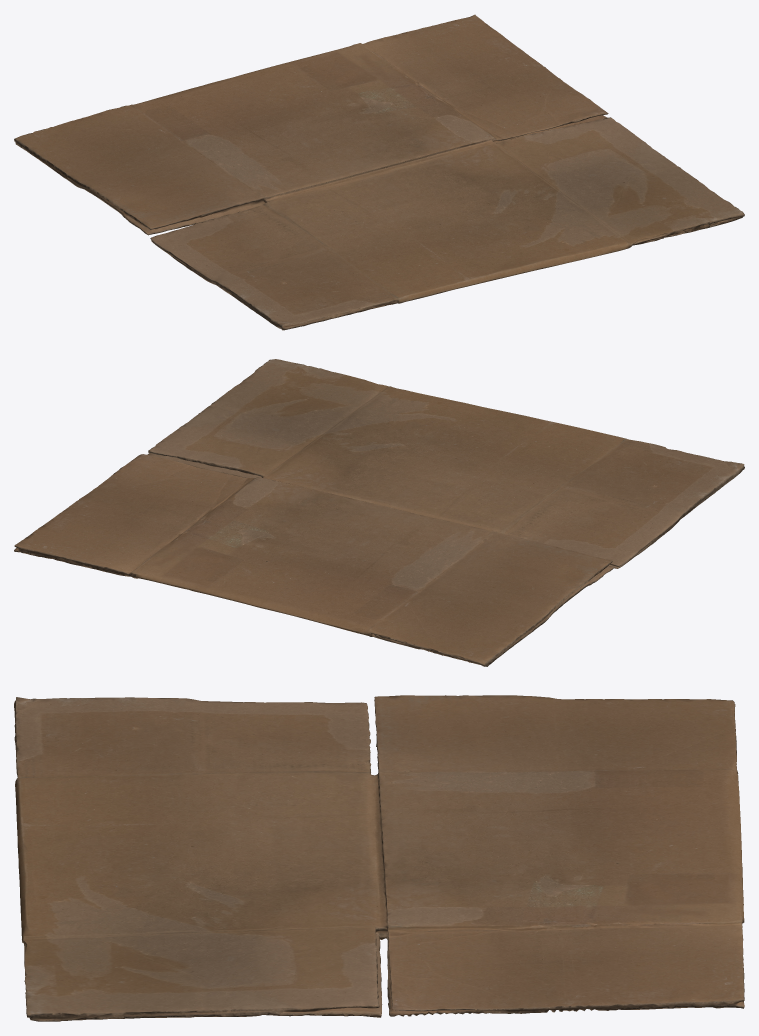
The model's file is Carton.fbx.
The picture shows the model from 3 angles, top to bottom: view 1: azimuth 30°, elevation 25°; view 2: azimuth 150°, elevation 25°; view 3: azimuth 270°, elevation 25°; orthographic projection. The views are drawn at different scales.
Parts seen in each view (by area): view 1: Carton; view 2: Carton; view 3: Carton.
Part boxes in pixels (x1,y1,x2,y2): Carton: [14, 14, 744, 330]; Carton: [14, 359, 744, 666]; Carton: [14, 695, 744, 1021].
Bounding box in the file's own units: 146 × 4.51 × 144.
